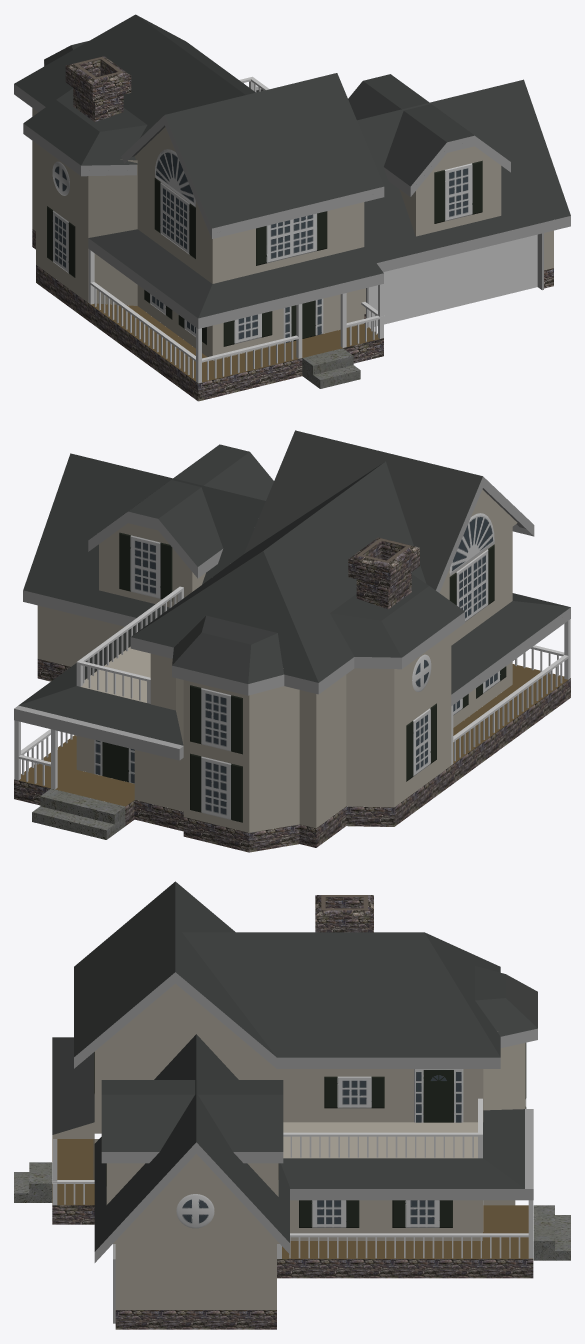
Rendered from small_business.glb.
The picture shows the model from 3 angles, top to bottom: view 1: azimuth 30°, elevation 25°; view 2: azimuth 150°, elevation 25°; view 3: azimuth 270°, elevation 25°; orthographic projection. The views are drawn at different scales.
Visible parts, largest first — view 1: roof_tile_1_0, wood_1_wood_1_0, doors_and_windows_collection_doors_and_windows_0, roof_edge_tile_2_0, stone_1_concreate_2_0, woos_2_wood_2_0, wood_3_wood_3_0, concrete_1_concrete_1_0; view 2: roof_tile_1_0, wood_1_wood_1_0, doors_and_windows_collection_doors_and_windows_0, stone_1_concreate_2_0, roof_edge_tile_2_0, woos_2_wood_2_0, wood_3_wood_3_0, concrete_1_concrete_1_0; view 3: roof_tile_1_0, wood_1_wood_1_0, roof_edge_tile_2_0, stone_1_concreate_2_0, doors_and_windows_collection_doors_and_windows_0, wood_3_wood_3_0, woos_2_wood_2_0, concrete_1_concrete_1_0.
Part boxes in pixels (left/top/right/bottom): roof_tile_1_0: left=14, top=14, right=570, bottom=318; wood_1_wood_1_0: left=32, top=108, right=553, bottom=360; doors_and_windows_collection_doors_and_windows_0: left=47, top=149, right=537, bottom=346; roof_edge_tile_2_0: left=14, top=60, right=570, bottom=328; stone_1_concreate_2_0: left=32, top=56, right=553, bottom=401; woos_2_wood_2_0: left=88, top=76, right=384, bottom=383; wood_3_wood_3_0: left=88, top=303, right=379, bottom=382; concrete_1_concrete_1_0: left=302, top=348, right=360, bottom=388; roof_tile_1_0: left=18, top=430, right=570, bottom=745; wood_1_wood_1_0: left=37, top=489, right=517, bottom=832; doors_and_windows_collection_doors_and_windows_0: left=94, top=513, right=506, bottom=822; stone_1_concreate_2_0: left=14, top=537, right=570, bottom=852; roof_edge_tile_2_0: left=14, top=476, right=570, bottom=760; woos_2_wood_2_0: left=14, top=586, right=570, bottom=789; wood_3_wood_3_0: left=19, top=664, right=568, bottom=806; concrete_1_concrete_1_0: left=32, top=788, right=125, bottom=839; roof_tile_1_0: left=52, top=881, right=537, bottom=1251; wood_1_wood_1_0: left=52, top=983, right=525, bottom=1309; roof_edge_tile_2_0: left=74, top=972, right=537, bottom=1323; stone_1_concreate_2_0: left=52, top=895, right=533, bottom=1329; doors_and_windows_collection_doors_and_windows_0: left=93, top=1043, right=526, bottom=1231; wood_3_wood_3_0: left=52, top=1139, right=532, bottom=1258; woos_2_wood_2_0: left=52, top=1098, right=533, bottom=1258; concrete_1_concrete_1_0: left=14, top=1162, right=570, bottom=1260.
Size of the model in its own units: 1.33 by 0.7531 by 1.47.
9 materials, 3 textured.
